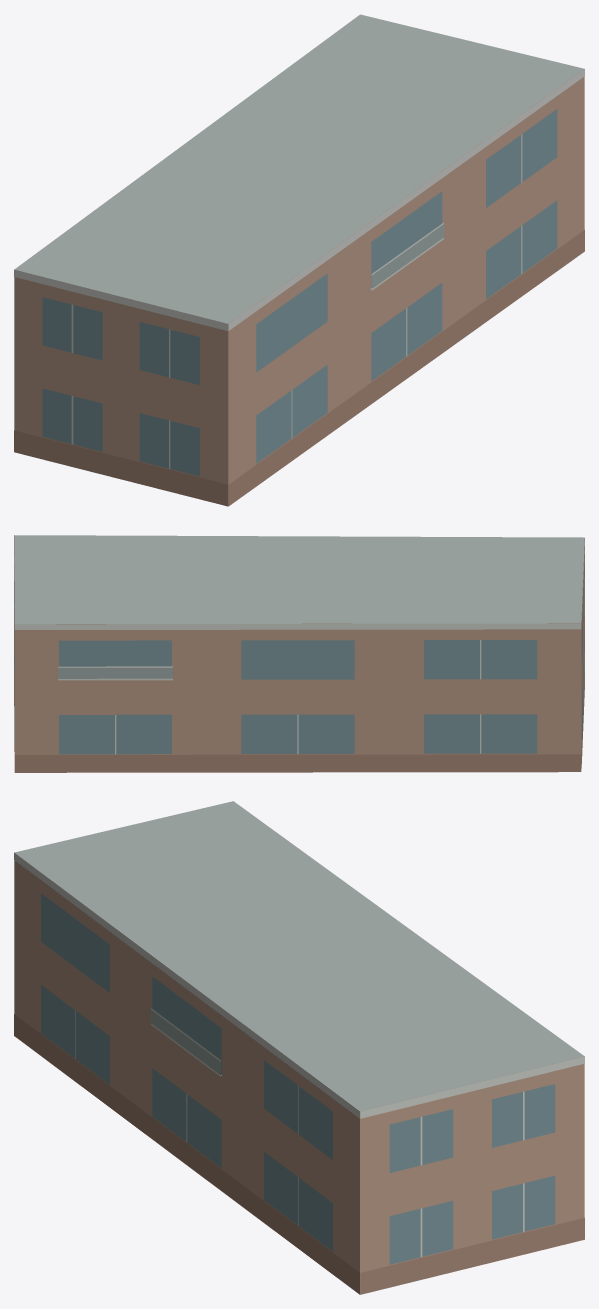
Rendered from survey-upis-32671809.glb.
The picture shows the model from 3 angles, top to bottom: view 1: azimuth 30°, elevation 25°; view 2: azimuth 150°, elevation 25°; view 3: azimuth 270°, elevation 25°; orthographic projection. The views are drawn at different scales.
Parts seen in each view (by area): view 1: survey-upis-32671809.tmp; view 2: survey-upis-32671809.tmp; view 3: survey-upis-32671809.tmp.
Boxes of the visible parts, left/top/right/bottom form: survey-upis-32671809.tmp: left=14, top=14, right=584, bottom=506; survey-upis-32671809.tmp: left=14, top=535, right=584, bottom=772; survey-upis-32671809.tmp: left=14, top=801, right=584, bottom=1294.
Bounding box in the file's own units: 22.17 × 6.1 × 17.22.
